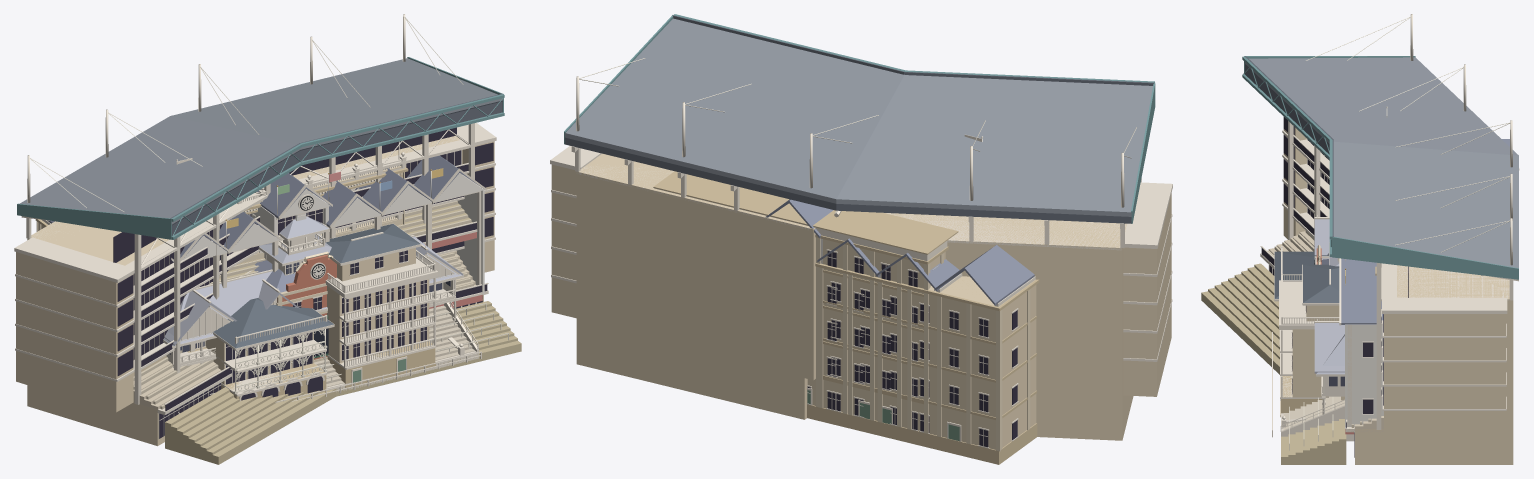
Rendered from gen-park-l-big_stands.glb.
3 views of the same model, side by side, from view 1: azimuth 30°, elevation 25°; view 2: azimuth 150°, elevation 25°; view 3: azimuth 270°, elevation 25° (orthographic). The views are drawn at different scales.
Parts seen in each view (by area): view 1: york_stand_north, york_pavilions, park_gable_stand, gen_pavilion_stand, park_balcony_stand, park_clock_house; view 2: york_stand_north, park_gable_stand, park_balcony_stand; view 3: york_stand_north, york_pavilions, park_gable_stand, gen_pavilion_stand.
Boxes of the visible parts, <box> form: york_stand_north: <box>14,14,521,464</box>; york_pavilions: <box>205,223,438,401</box>; park_gable_stand: <box>35,155,515,394</box>; gen_pavilion_stand: <box>163,213,481,413</box>; park_balcony_stand: <box>176,141,464,396</box>; park_clock_house: <box>254,251,408,396</box>; york_stand_north: <box>550,14,1172,440</box>; park_gable_stand: <box>765,199,1039,464</box>; park_balcony_stand: <box>653,134,982,447</box>; york_stand_north: <box>1201,14,1519,464</box>; york_pavilions: <box>1274,246,1339,417</box>; park_gable_stand: <box>1281,139,1509,451</box>; gen_pavilion_stand: <box>1272,215,1354,441</box>.
Bounding box in the file's own units: 74.2 × 37.48 × 43.86.
